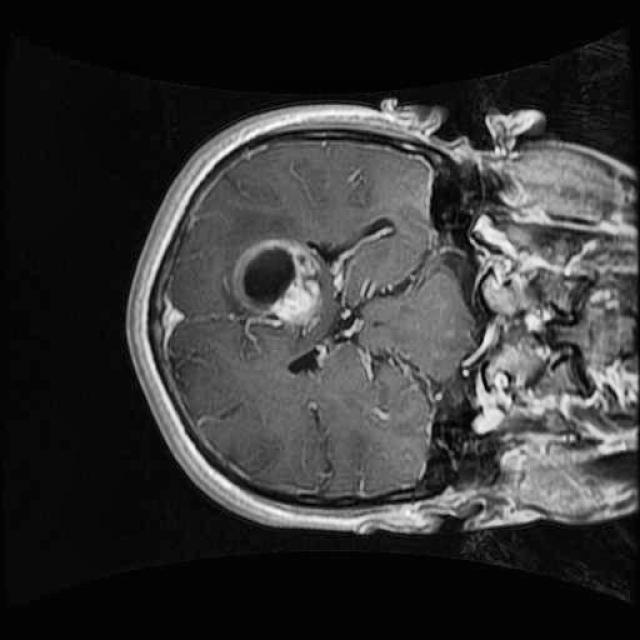Tumor: (220, 228, 336, 338)
